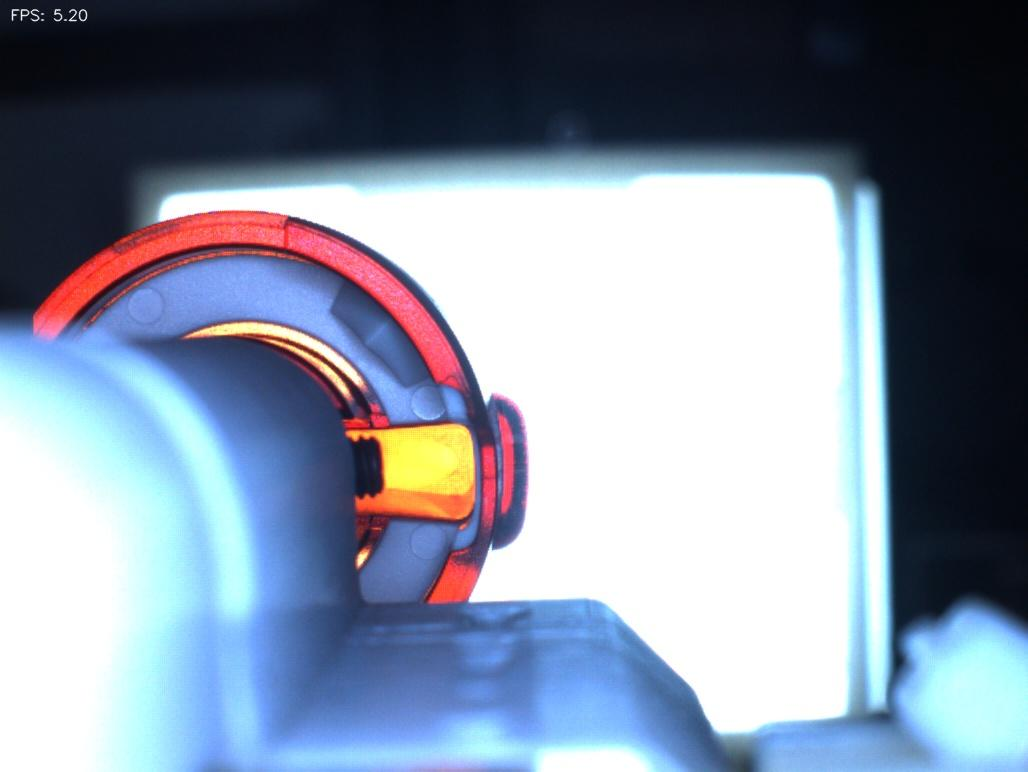Retassure: (375, 424, 479, 509)
